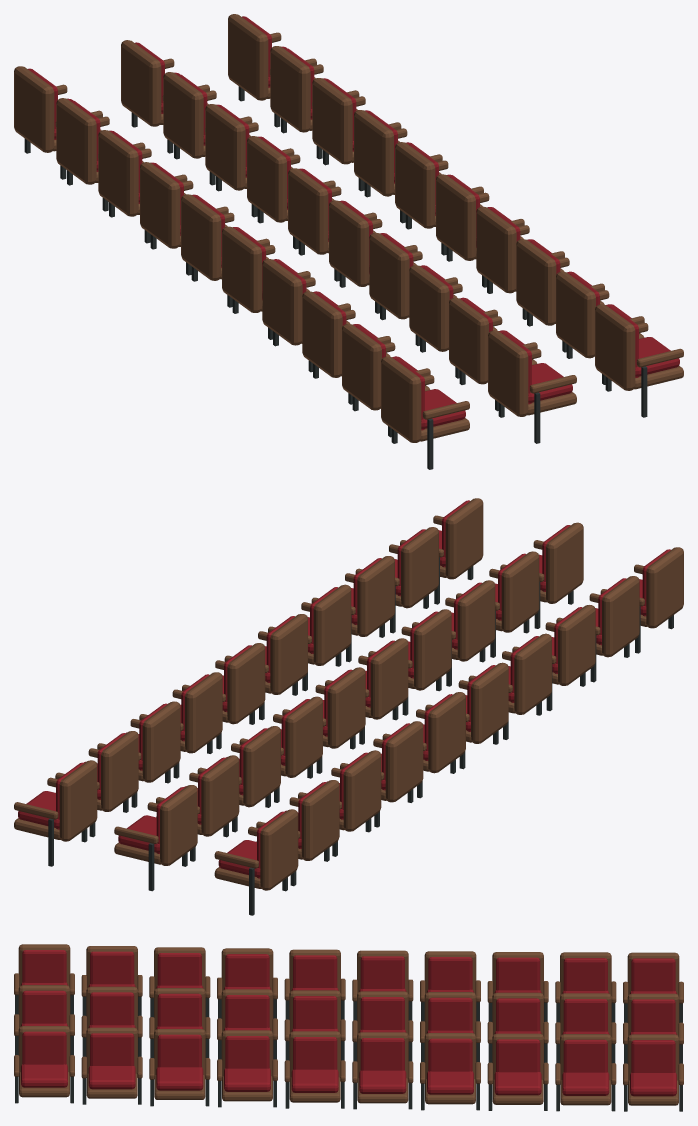
File: SM_CP_AudienceSeatsRight.fbx
3 views of the same model, one above another, from view 1: azimuth 30°, elevation 25°; view 2: azimuth 150°, elevation 25°; view 3: azimuth 270°, elevation 25° (orthographic). The views are drawn at different scales.
Parts seen in each view (by area): view 1: SM_CP_AudienceSeatsRight; view 2: SM_CP_AudienceSeatsRight; view 3: SM_CP_AudienceSeatsRight.
Part boxes in pixels (left/top/right/bottom): SM_CP_AudienceSeatsRight: left=14, top=14, right=683, bottom=469; SM_CP_AudienceSeatsRight: left=14, top=498, right=683, bottom=915; SM_CP_AudienceSeatsRight: left=14, top=944, right=683, bottom=1111.
Size of what is drawn, in the model's own units: 443 by 1109 by 131.
